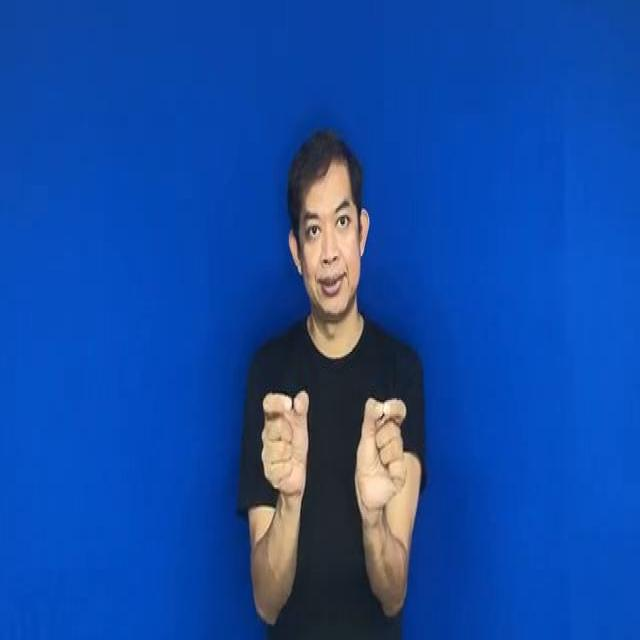crab: (240, 381, 418, 524)
